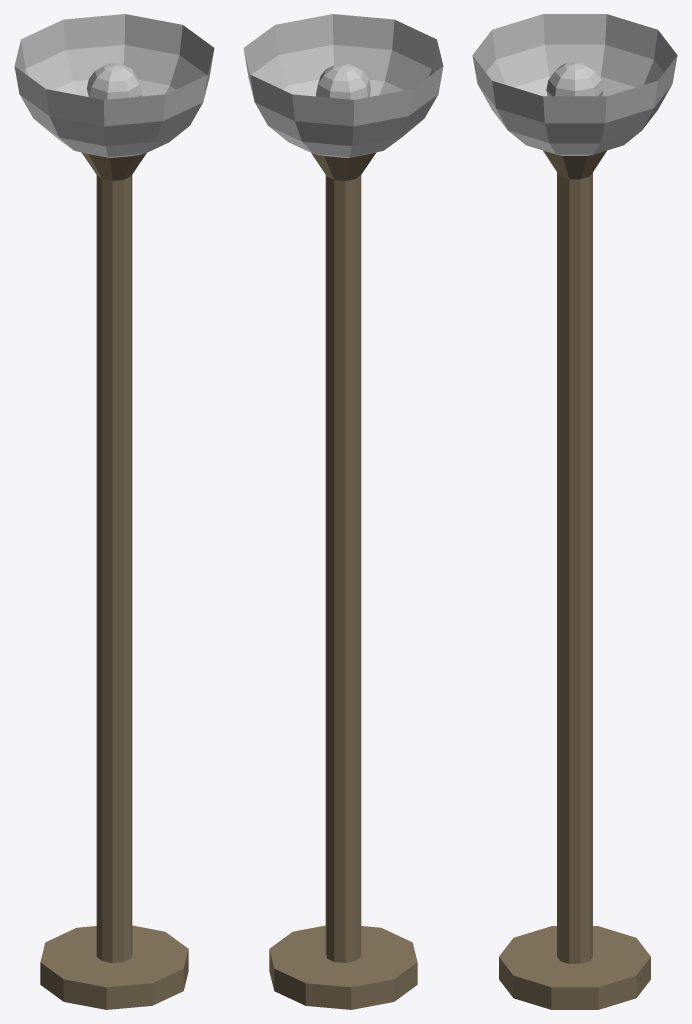
The model's file is standingLight.fbx.
3 renders of one model, left to right at view 1: azimuth 30°, elevation 25°; view 2: azimuth 150°, elevation 25°; view 3: azimuth 270°, elevation 25°, orthographic.
Parts seen in each view (by area): view 1: Cylinder.015, Sphere.003, Cylinder.014, Sphere.004; view 2: Cylinder.015, Sphere.003, Cylinder.014, Sphere.004; view 3: Cylinder.015, Sphere.003, Cylinder.014, Sphere.004.
Part boxes in pixels (left/top/right/bottom): Cylinder.015: left=81, top=152, right=146, bottom=962; Sphere.003: left=14, top=14, right=214, bottom=157; Cylinder.014: left=40, top=925, right=188, bottom=1009; Sphere.004: left=87, top=63, right=141, bottom=99; Cylinder.015: left=311, top=152, right=376, bottom=962; Sphere.003: left=243, top=14, right=443, bottom=157; Cylinder.014: left=269, top=925, right=417, bottom=1009; Sphere.004: left=316, top=63, right=370, bottom=99; Cylinder.015: left=543, top=150, right=606, bottom=963; Sphere.003: left=472, top=14, right=677, bottom=155; Cylinder.014: left=499, top=926, right=650, bottom=1009; Sphere.004: left=546, top=61, right=603, bottom=96.
Bounding box in the file's own units: 35.64 × 186 × 37.48.
